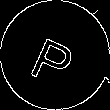P_NE: (28, 24, 82, 86)
